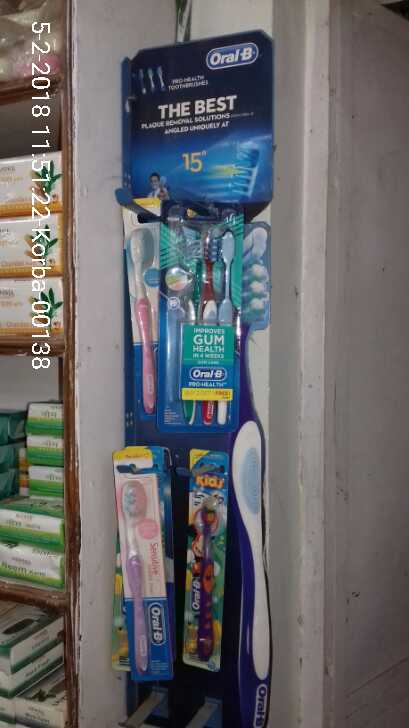oralb: (175, 219, 237, 430), (119, 473, 170, 677), (123, 220, 160, 415), (190, 489, 227, 658)
